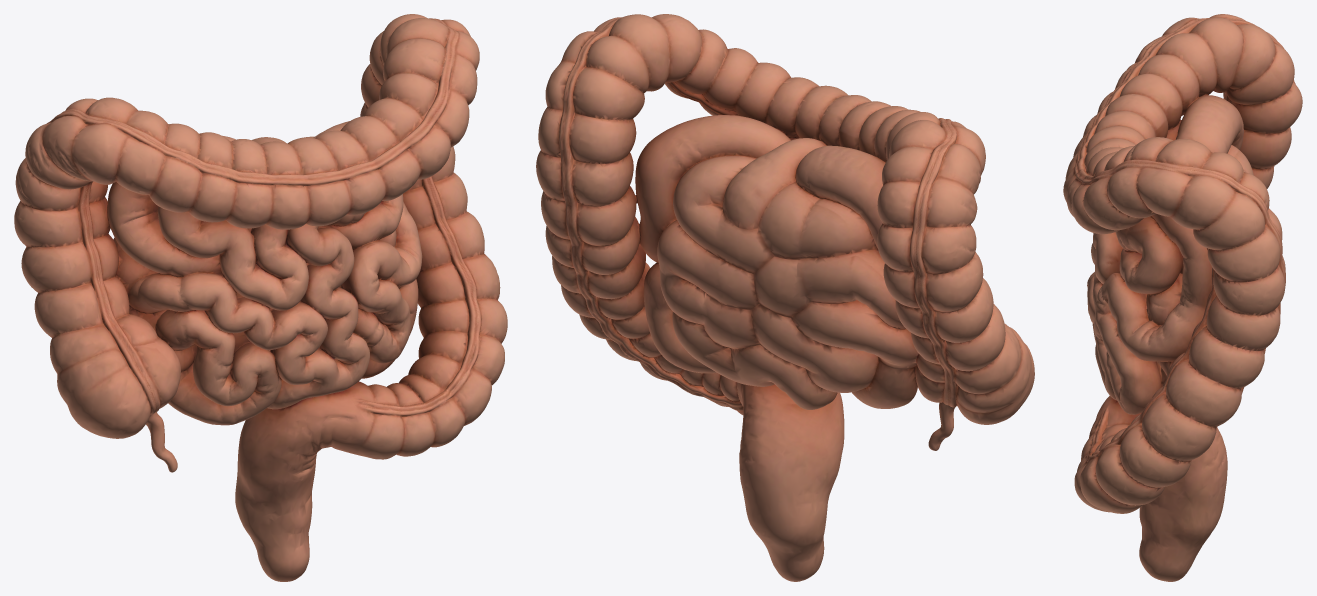
The model's file is organ-intestine-interactive-lod.glb.
3 renders of one model, left to right at view 1: azimuth 30°, elevation 25°; view 2: azimuth 150°, elevation 25°; view 3: azimuth 270°, elevation 25°, orthographic. The views are drawn at different scales.
Visible parts, largest first — view 1: tripo_node_62b379d0-ce68-4c4f-9391-eb1f11136f30; view 2: tripo_node_62b379d0-ce68-4c4f-9391-eb1f11136f30; view 3: tripo_node_62b379d0-ce68-4c4f-9391-eb1f11136f30.
Part boxes in pixels (<box>): tripo_node_62b379d0-ce68-4c4f-9391-eb1f11136f30: <box>14,14,507,581</box>; tripo_node_62b379d0-ce68-4c4f-9391-eb1f11136f30: <box>536,14,1034,581</box>; tripo_node_62b379d0-ce68-4c4f-9391-eb1f11136f30: <box>1063,14,1302,581</box>.
Size of the model in its own units: 29033 by 32765 by 13988.
1 material, 1 textured.
